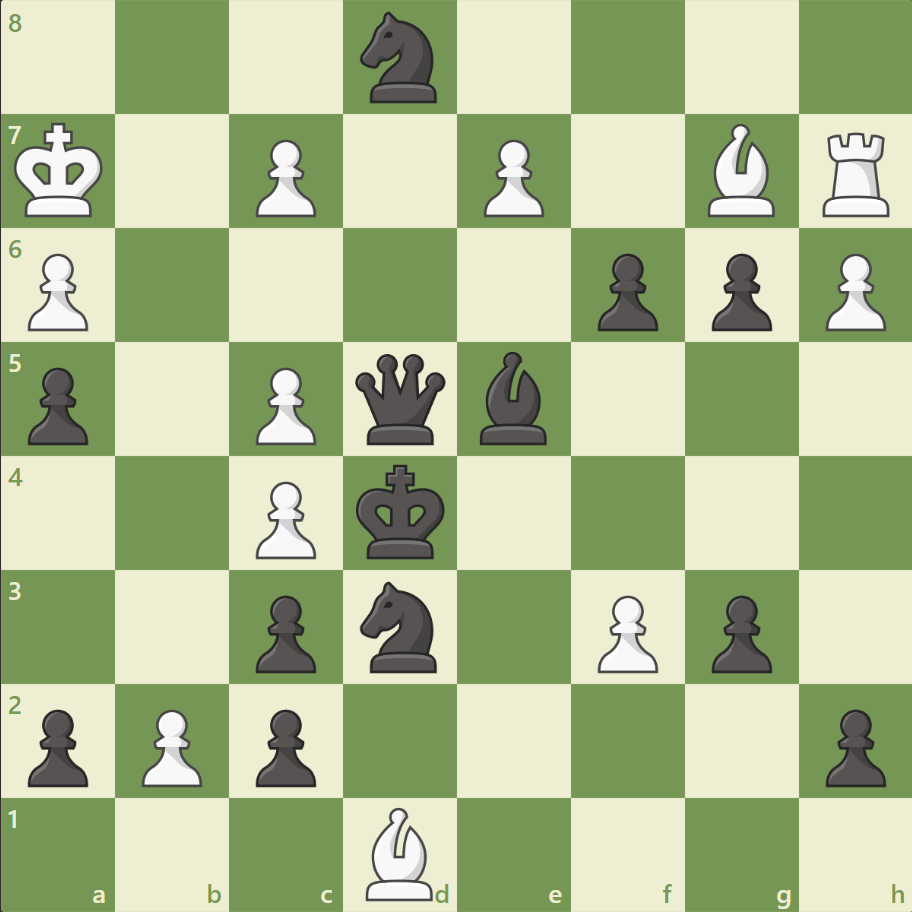B: (358, 801, 442, 904), (698, 120, 782, 222)
K: (11, 117, 111, 225)
P: (247, 132, 322, 223), (474, 132, 549, 223), (20, 246, 95, 337), (247, 359, 322, 450), (247, 473, 322, 564), (133, 700, 208, 791), (815, 246, 889, 337), (588, 586, 662, 677)
R: (814, 125, 897, 222)
b: (471, 347, 555, 449)
k: (351, 458, 451, 566)
n: (351, 7, 449, 110), (351, 575, 449, 677)
p: (701, 246, 776, 337), (20, 359, 95, 450), (247, 586, 322, 677), (701, 586, 776, 677), (20, 700, 95, 791), (247, 700, 322, 791), (588, 246, 662, 337), (815, 700, 889, 791)
q: (351, 349, 450, 449)
